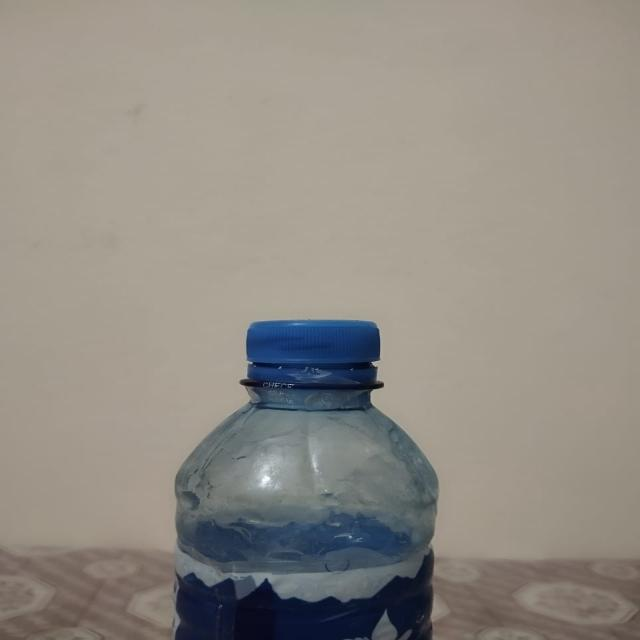cap: (242, 320, 382, 382)
label: (173, 556, 438, 640)
